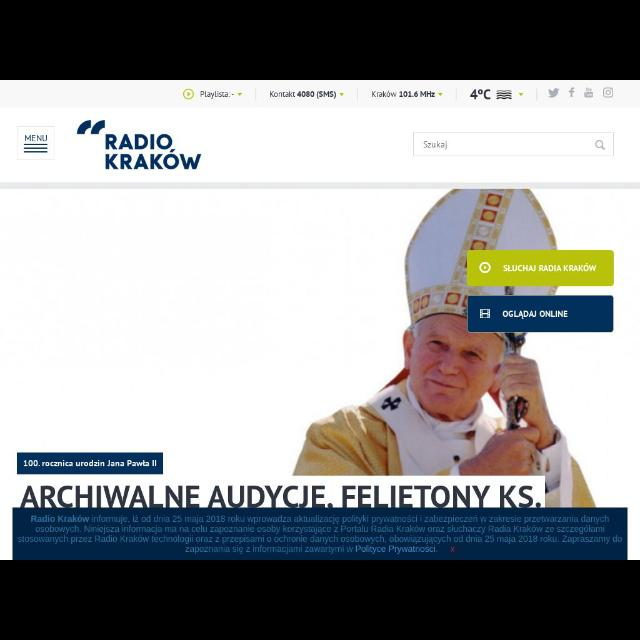icon: (478, 260, 492, 274), (24, 144, 48, 152), (594, 138, 606, 152), (478, 308, 492, 320), (496, 90, 512, 100), (603, 88, 615, 99), (182, 89, 194, 99), (548, 88, 560, 98), (584, 87, 594, 97), (568, 86, 574, 98), (436, 92, 444, 96), (339, 93, 345, 97), (518, 92, 524, 96), (238, 92, 242, 96)
image: (0, 189, 628, 507), (75, 118, 202, 172)
input: (413, 133, 614, 157)
text: (16, 512, 622, 554), (19, 485, 541, 507), (23, 459, 157, 469), (502, 264, 598, 274), (500, 308, 570, 318), (268, 91, 336, 99), (371, 90, 435, 98), (200, 90, 233, 98), (469, 88, 491, 100), (422, 140, 448, 150), (24, 134, 48, 142)
textbutton: (467, 294, 613, 332), (468, 250, 614, 286), (18, 126, 54, 160)
toolbar: (1, 81, 640, 183)
